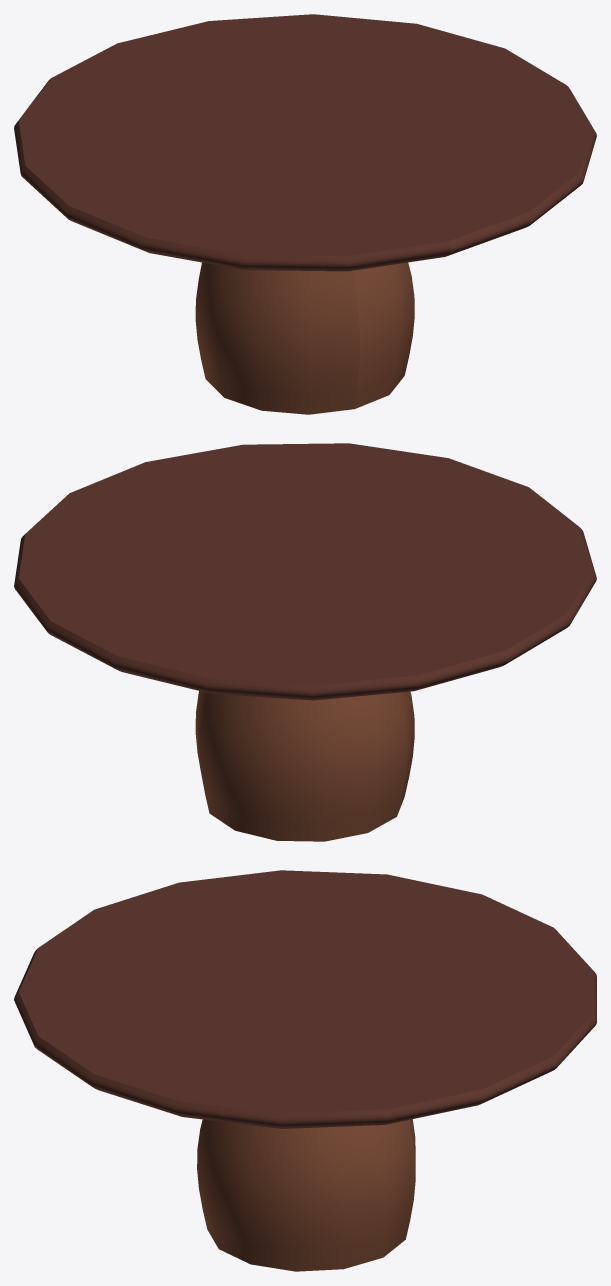
The model's file is Round Dining Table.glb.
3 renders of one model, top to bottom at view 1: azimuth 30°, elevation 25°; view 2: azimuth 150°, elevation 25°; view 3: azimuth 270°, elevation 25°, orthographic.
Parts seen in each view (by area): view 1: TableTop, Leg; view 2: TableTop, Leg; view 3: TableTop, Leg.
Boxes of the visible parts, box(x1,y1,x2,y2) form: TableTop: box(14, 14, 596, 271); Leg: box(195, 262, 414, 414); TableTop: box(14, 443, 596, 700); Leg: box(195, 691, 414, 841); TableTop: box(14, 870, 596, 1128); Leg: box(197, 1119, 415, 1271).
Bounding box in the file's own units: 1.82 × 0.8125 × 1.81.
